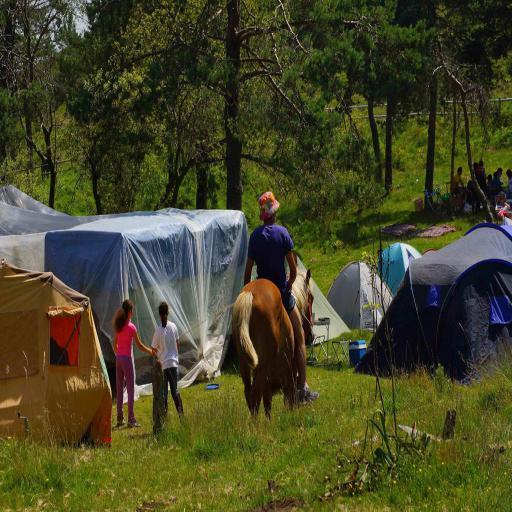horse: (231, 269, 315, 435)
